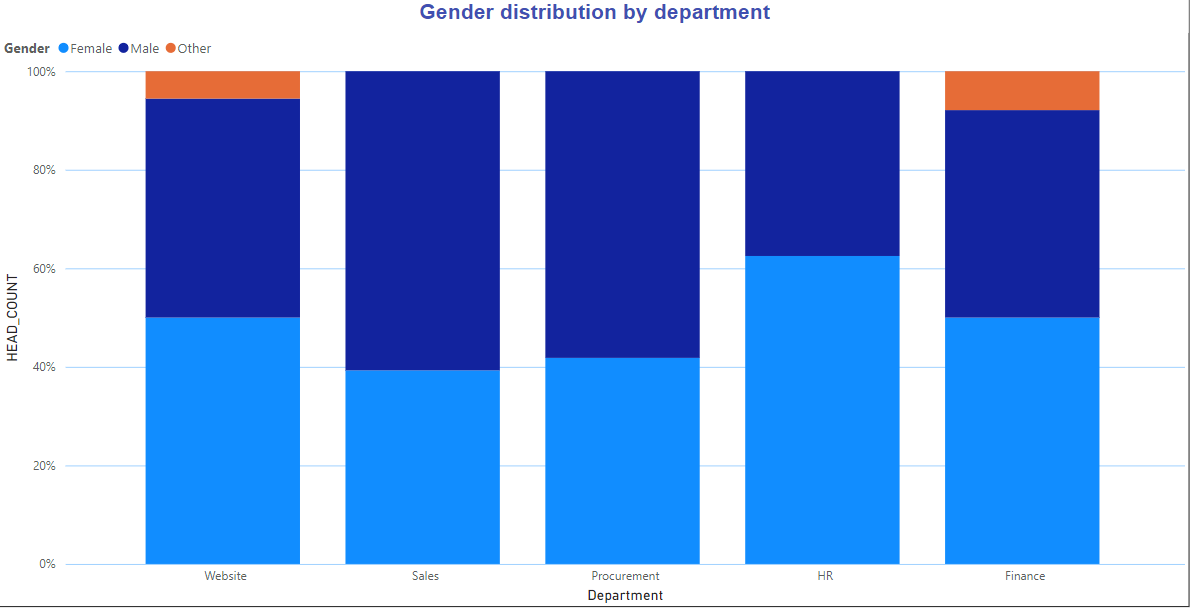

Layout of this report page (visuals, bound fields, positions):
{"tool":"powerbi","page":{"name":"Qn. 2","canvas":[1280,720],"ordinal":2},"visuals":[{"type":"hundredPercentStackedColumnChart","title":"Gender distribution by department","fields":{"Category":["Hr.Department"],"Y":["Hr.HEAD_COUNT"],"Series":["Hr.Gender"]},"box":[56.3,85.1,1191.1,607.9],"z":0}]}

Visuals, with their boxes on the page's 1280x720 design canvas (x1, y1, x2, y2). These are canvas units, not pixel positions in the 1190x609 screenshot, which may show the page scaled, cropped or inside an application window:
"Gender distribution by department" hundredPercentStackedColumnChart: locate(56, 85, 1247, 693)
